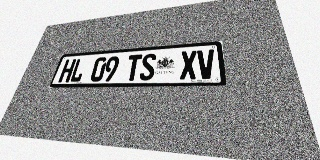0: (89, 57, 108, 82)
9: (102, 56, 120, 81)
H: (58, 59, 76, 82)
L: (69, 58, 87, 82)
S: (139, 53, 157, 81)
T: (124, 54, 142, 81)
V: (197, 49, 216, 79)
X: (180, 50, 197, 80)
